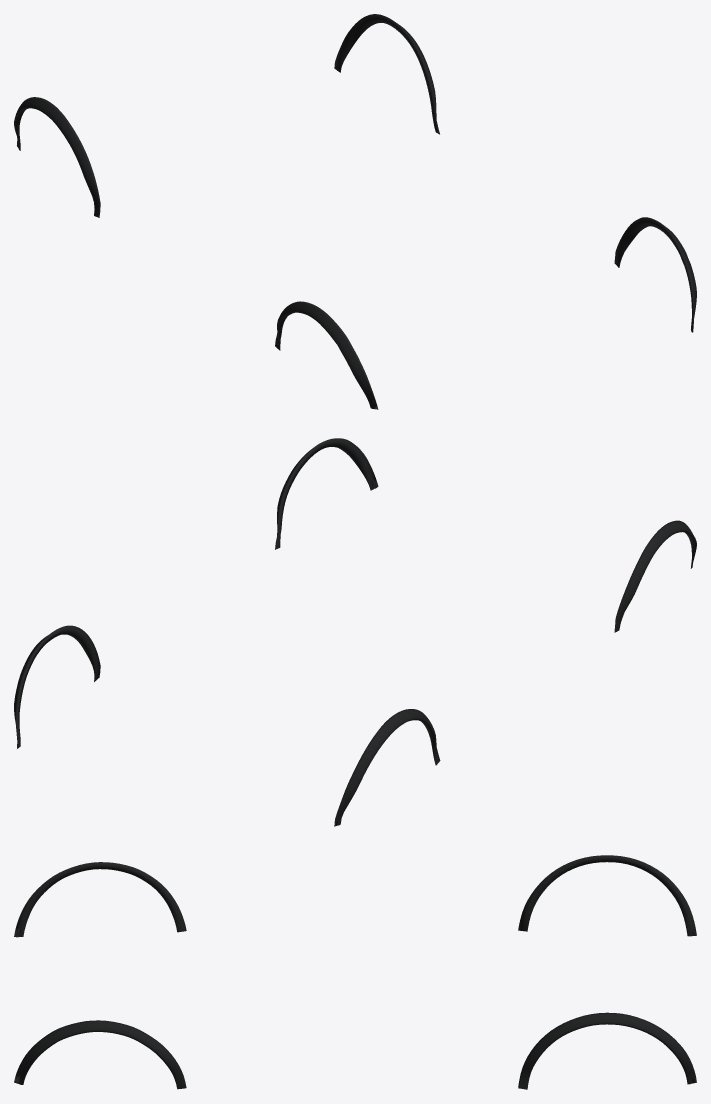
The model's file is DT61_fender_flares_carbon.glb.
3 renders of one model, top to bottom at view 1: azimuth 30°, elevation 25°; view 2: azimuth 150°, elevation 25°; view 3: azimuth 270°, elevation 25°, orthographic. The views are drawn at different scales.
Visible parts, largest first — view 1: MOD_NB_DT61_front_R, MOD_NB_DT61_rear_R, MOD_NB_DT61_rear_L, MOD_NB_DT61_front_L; view 2: MOD_NB_DT61_rear_R, MOD_NB_DT61_front_R, MOD_NB_DT61_front_L, MOD_NB_DT61_rear_L; view 3: MOD_NB_DT61_rear_L, MOD_NB_DT61_front_L, MOD_NB_DT61_rear_R, MOD_NB_DT61_front_R.
Part boxes in pixels (x1,y1,x2,y2): MOD_NB_DT61_front_R: (275, 301, 378, 409); MOD_NB_DT61_rear_R: (14, 97, 100, 217); MOD_NB_DT61_rear_L: (334, 14, 439, 134); MOD_NB_DT61_front_L: (614, 217, 696, 332); MOD_NB_DT61_rear_R: (334, 709, 440, 826); MOD_NB_DT61_front_R: (614, 520, 696, 632); MOD_NB_DT61_front_L: (275, 438, 378, 549); MOD_NB_DT61_rear_L: (14, 625, 100, 748); MOD_NB_DT61_rear_L: (518, 1012, 696, 1089); MOD_NB_DT61_front_L: (14, 1020, 186, 1089); MOD_NB_DT61_rear_R: (518, 855, 696, 936); MOD_NB_DT61_front_R: (14, 862, 186, 937).
Bounding box in the file's own units: 1.78 × 0.3838 × 3.09.
1 material, 1 textured.
